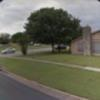cars: (0, 48, 24, 59)
